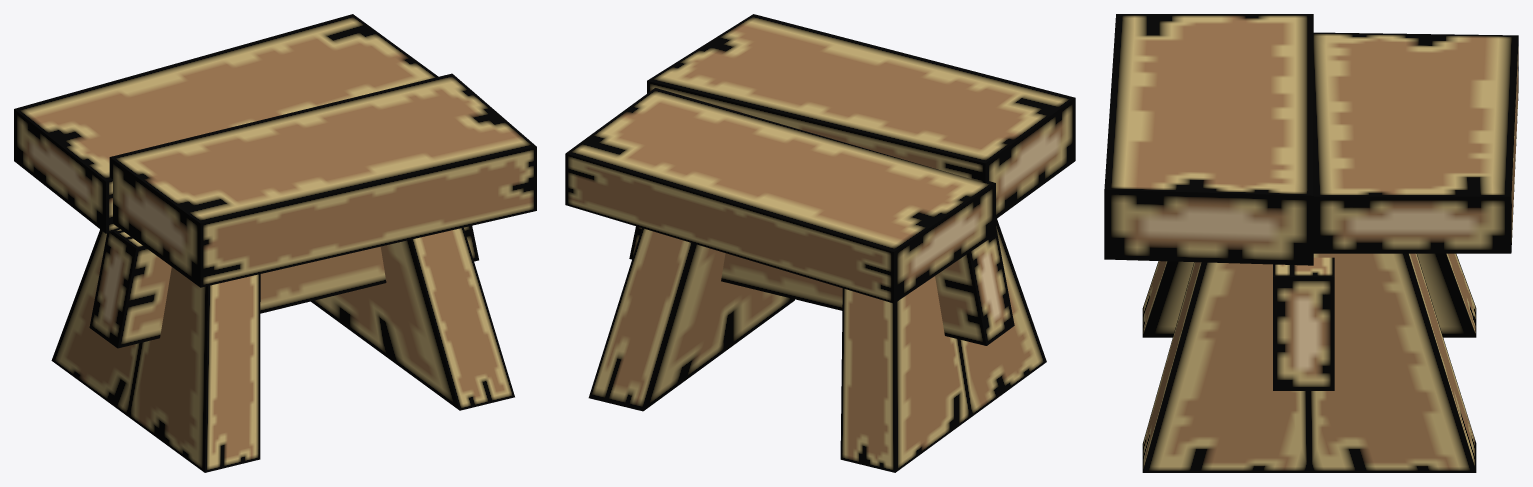
File: deco_cathedral_bench.FBX
The picture shows the model from 3 angles, left to right: view 1: azimuth 30°, elevation 25°; view 2: azimuth 150°, elevation 25°; view 3: azimuth 270°, elevation 25°; orthographic projection. The views are drawn at different scales.
Visible parts, largest first — view 1: deco_cathedral_bench; view 2: deco_cathedral_bench; view 3: deco_cathedral_bench.
Boxes of the visible parts, box(x1,y1,x2,y2) form: deco_cathedral_bench: box(14, 14, 536, 472); deco_cathedral_bench: box(565, 14, 1075, 472); deco_cathedral_bench: box(1104, 14, 1518, 472).
Size of the model in its own units: 1.15 by 0.7966 by 1.05.
1 material, 1 textured.
